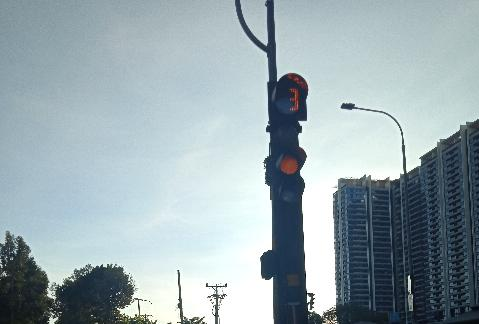yellow_light: (270, 115, 306, 207)
